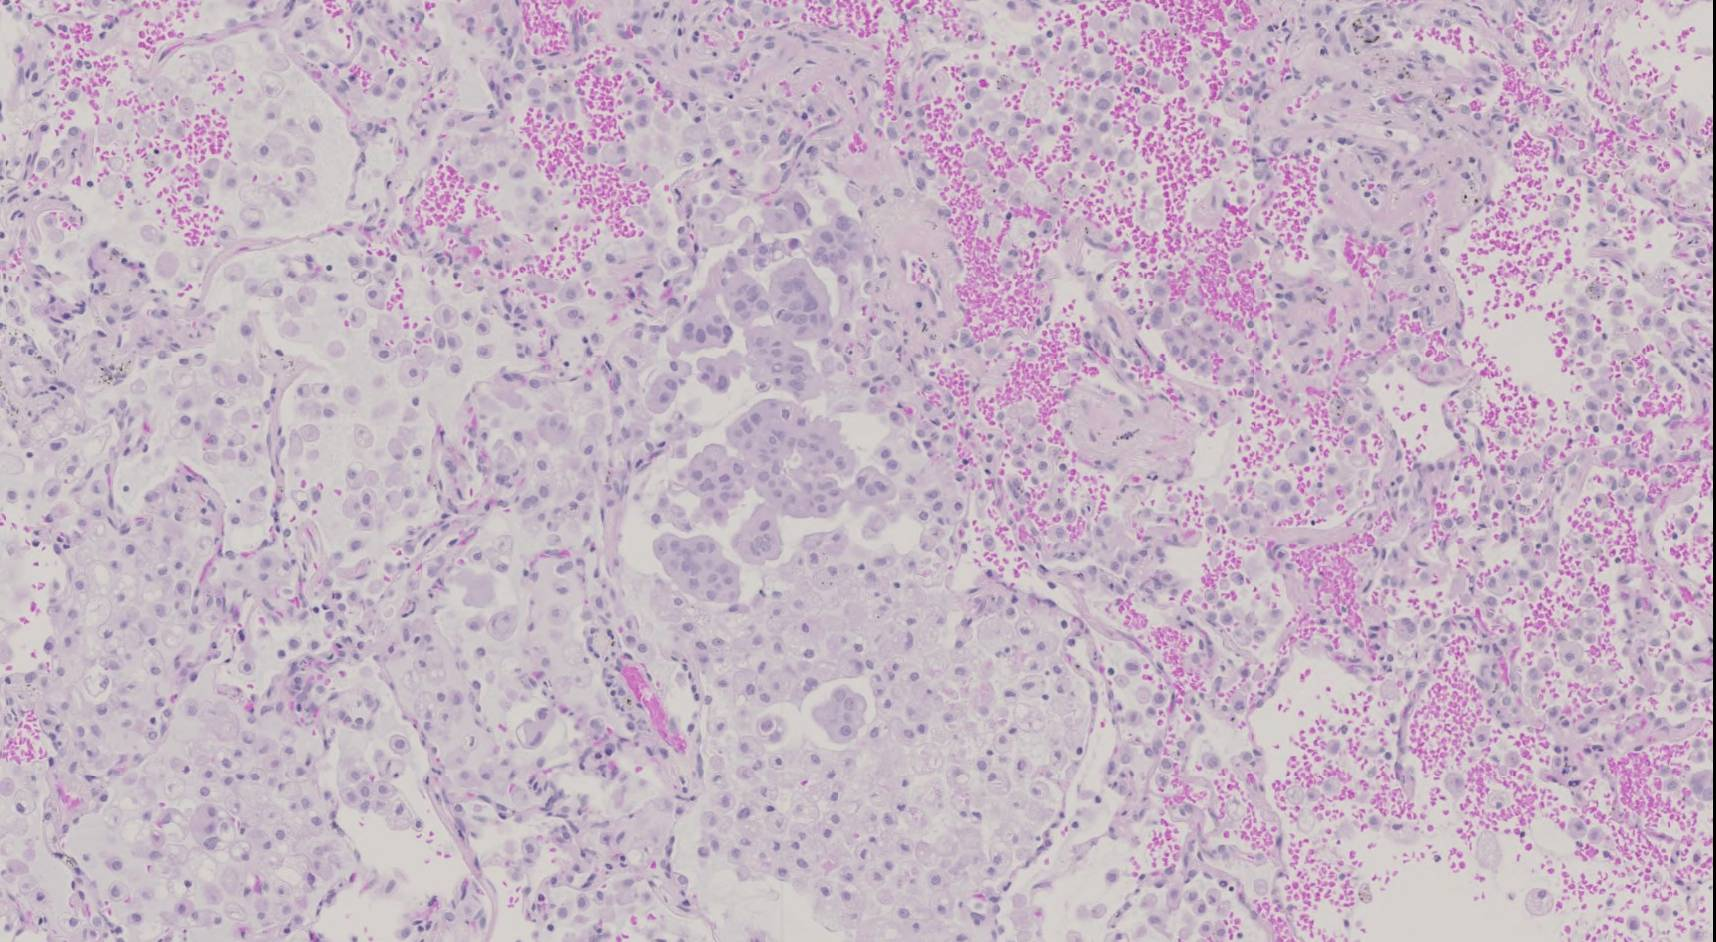stas: (646, 190, 866, 410), (677, 404, 894, 563), (651, 533, 742, 605), (813, 684, 866, 745)
